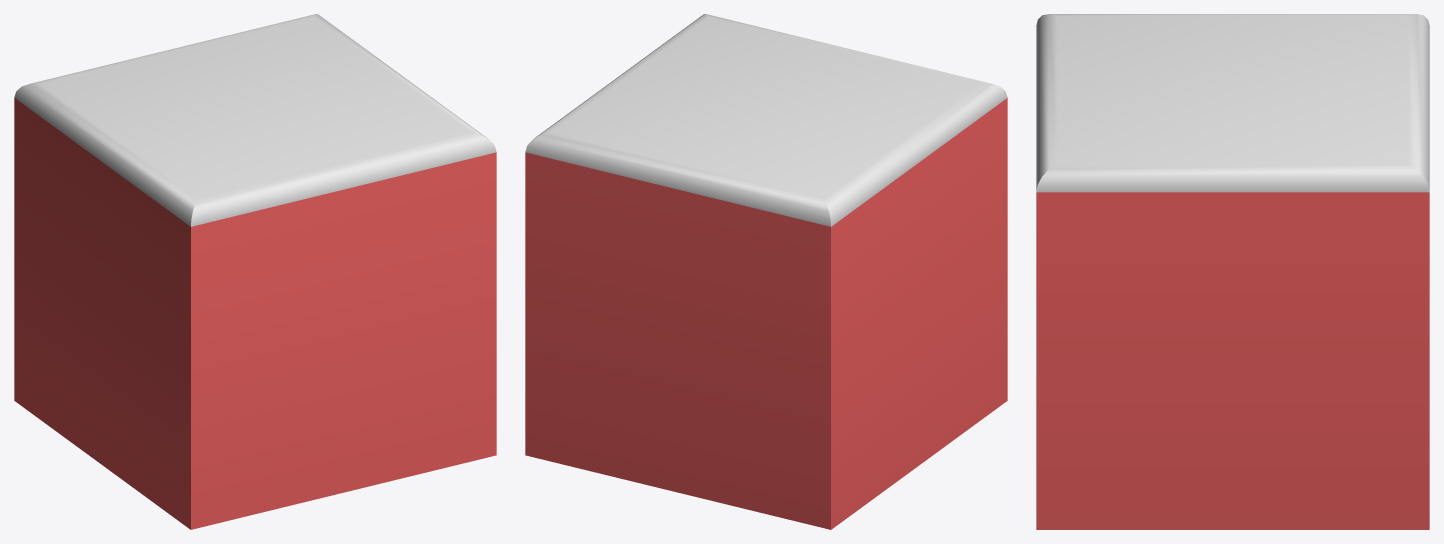
Rendered from CubeForTile_04.1.fbx.
3 views of the same model, side by side, from view 1: azimuth 30°, elevation 25°; view 2: azimuth 150°, elevation 25°; view 3: azimuth 270°, elevation 25° (orthographic). The views are drawn at different scales.
Visible parts, largest first — view 1: CubeForTile_04.1; view 2: CubeForTile_04.1; view 3: CubeForTile_04.1.
Part boxes in pixels (x1,y1,x2,y2): CubeForTile_04.1: (14,14,496,529); CubeForTile_04.1: (525,14,1007,529); CubeForTile_04.1: (1036,14,1429,529).
Bounding box in the file's own units: 200 × 200 × 200.
